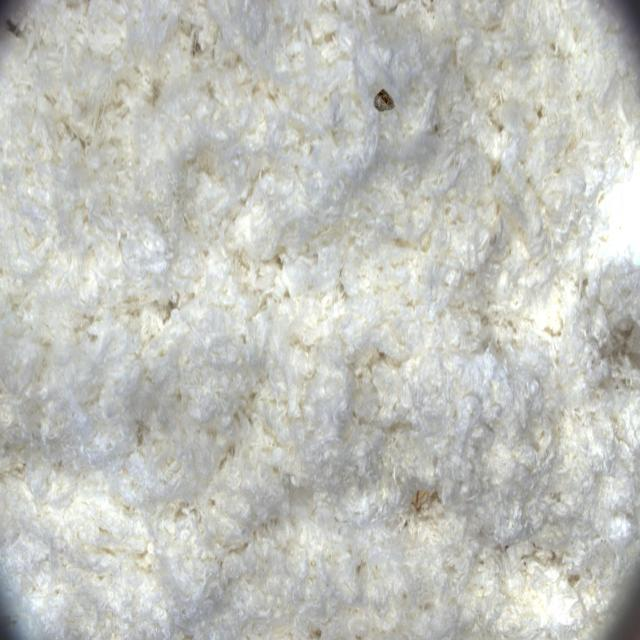dust: (355, 56, 416, 140)
